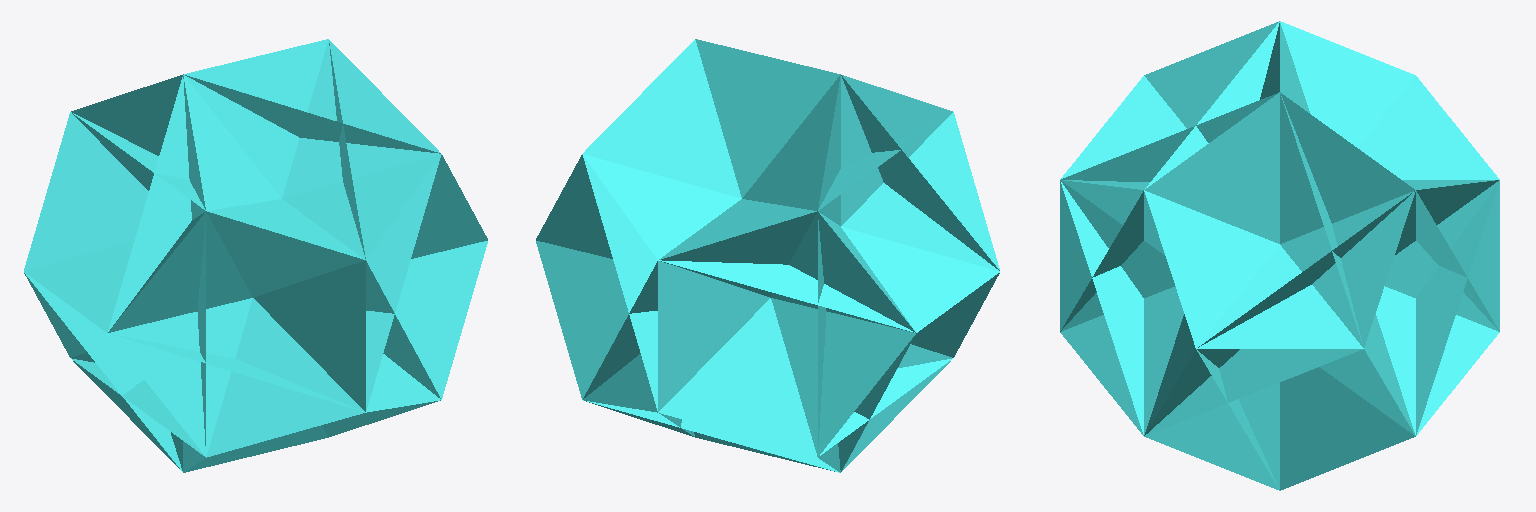
Rendered from Hugel.obj.
3 views of the same model, side by side, from view 1: azimuth 30°, elevation 25°; view 2: azimuth 150°, elevation 25°; view 3: azimuth 270°, elevation 25° (orthographic).
Size of the model in its own units: 2.62 by 2.62 by 2.62.